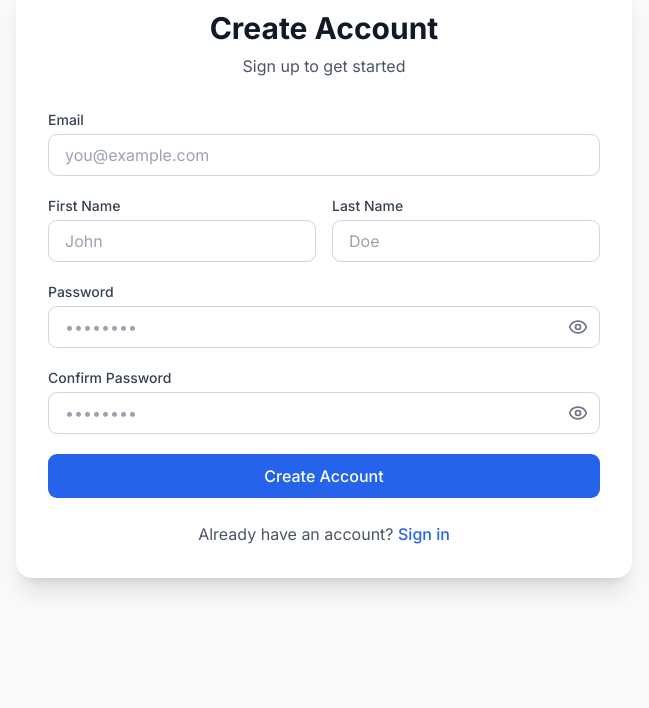
Scenario: Signup component › shows validation errors when submitting empty form
What coordinates should you click on to do the following:
click the button "Create Account"
I would click on:
 (324, 476)
Its box is 48,454 -> 600,498.
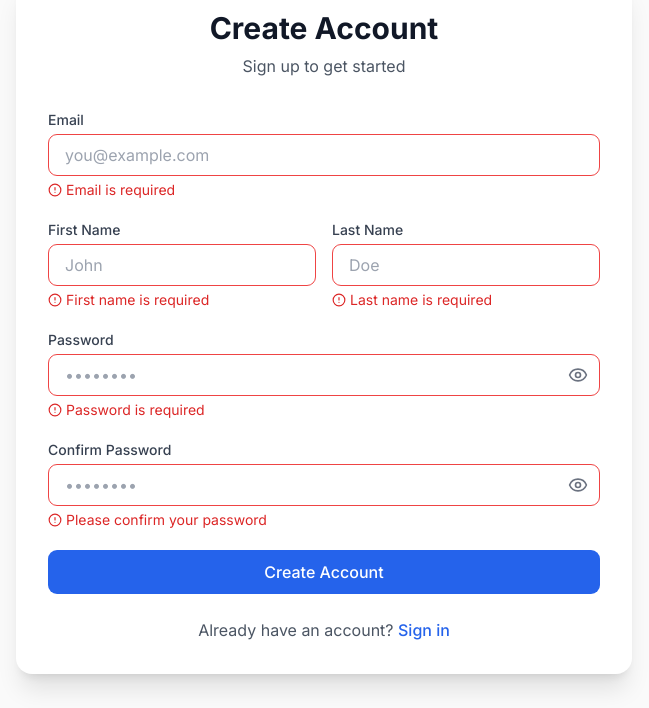
Expected: the text "Email is required" is shown, 48,181 -> 175,198
Expected: the text "First name is required" is shown, 48,291 -> 209,308
Expected: the text "Last name is required" is shown, 332,291 -> 492,308
